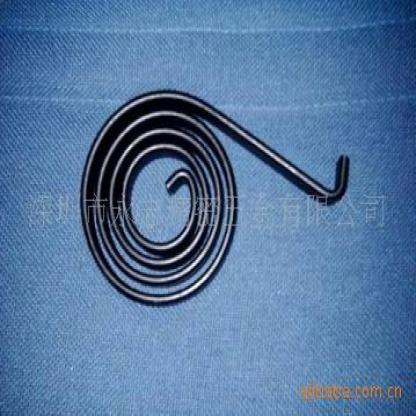FOD: (73, 84, 355, 316)
